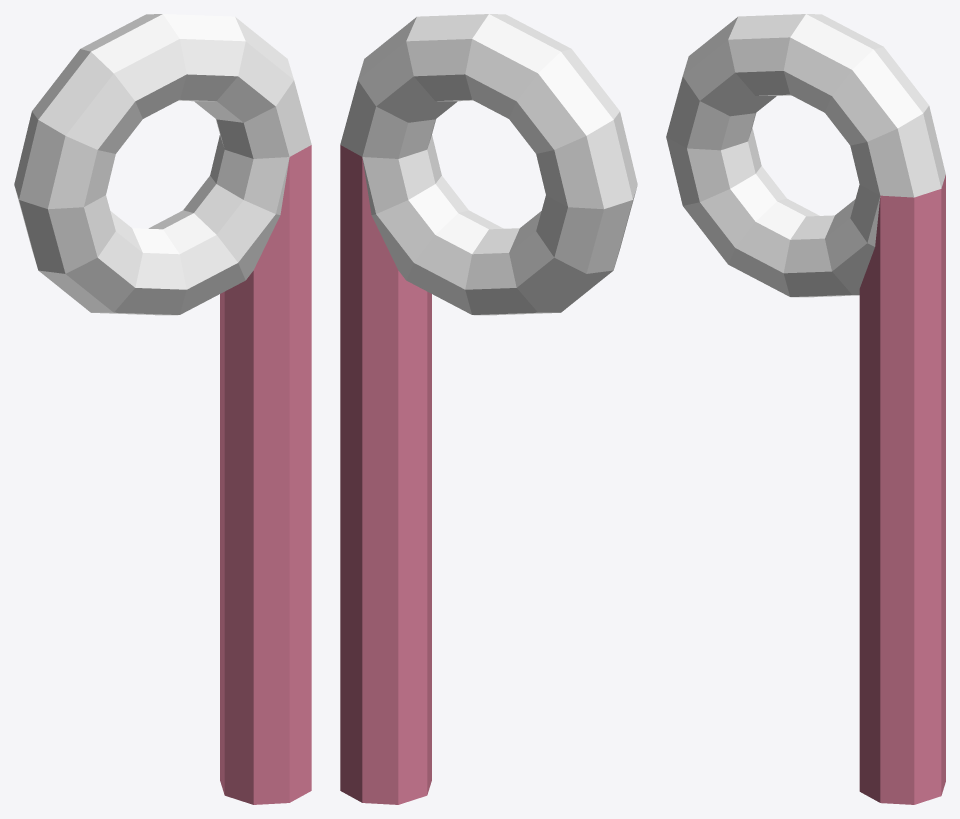
Rendered from item_candy_cane.glb.
3 views of the same model, side by side, from view 1: azimuth 30°, elevation 25°; view 2: azimuth 150°, elevation 25°; view 3: azimuth 330°, elevation 25° (orthographic). The views are drawn at different scales.
Visible parts, largest first — view 1: item_candy_cane; view 2: item_candy_cane; view 3: item_candy_cane.
Part boxes in pixels (x1=…): item_candy_cane: x1=14, y1=14, x2=311, y2=804; item_candy_cane: x1=340, y1=14, x2=637, y2=804; item_candy_cane: x1=666, y1=14, x2=945, y2=804.
Size of the model in its own units: 0.56 by 1.48 by 0.16.
